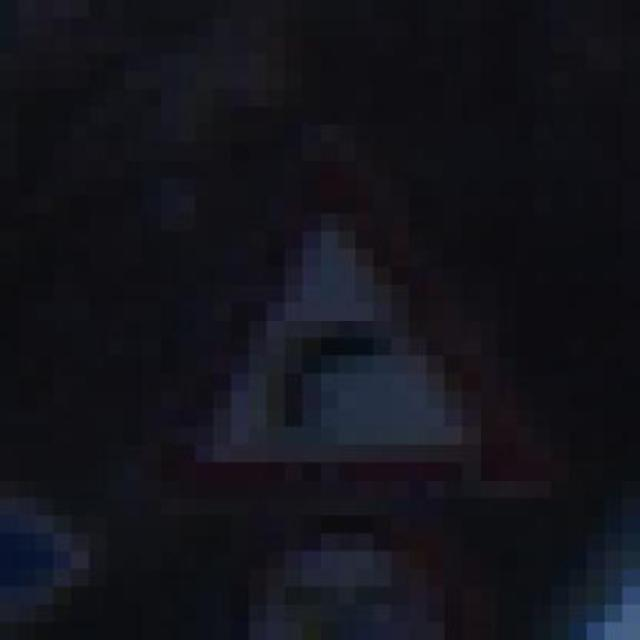Dangerous Rright Curve Ahead: (142, 142, 569, 533)
